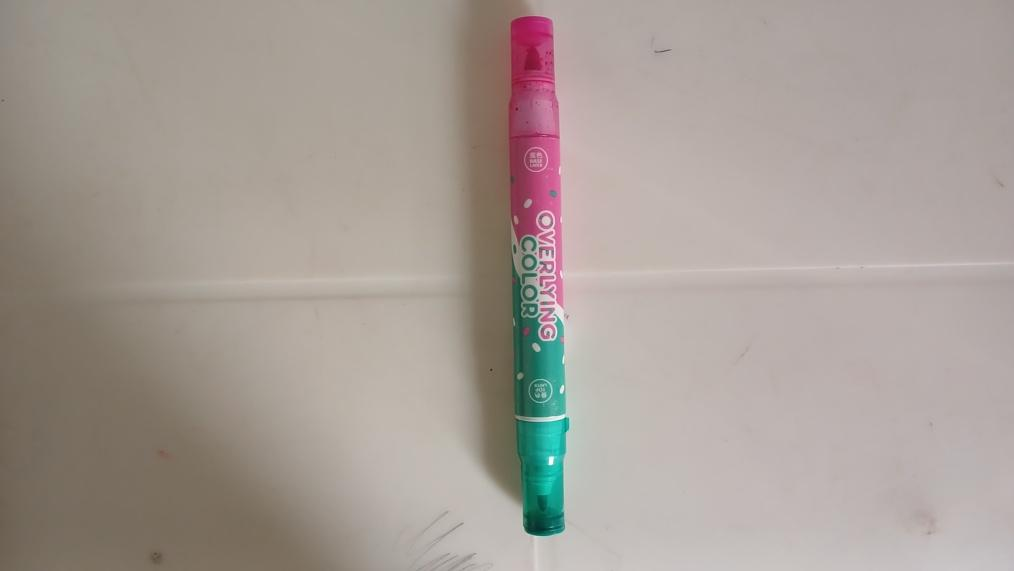Highlighter: (509, 14, 565, 535)
